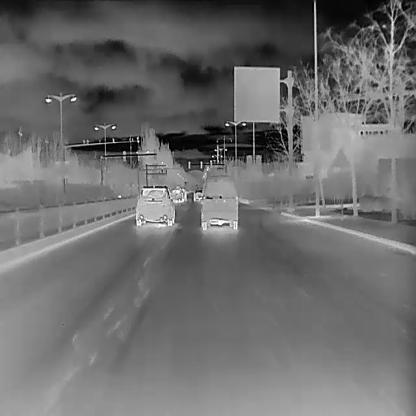car: (198, 174, 238, 229), (134, 184, 176, 226), (170, 187, 185, 202), (192, 188, 204, 202), (176, 187, 188, 201)
